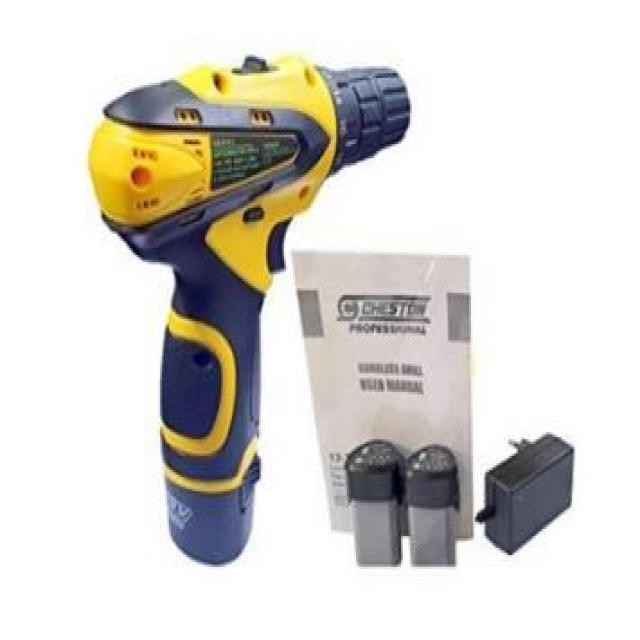drill: (88, 54, 412, 567)
